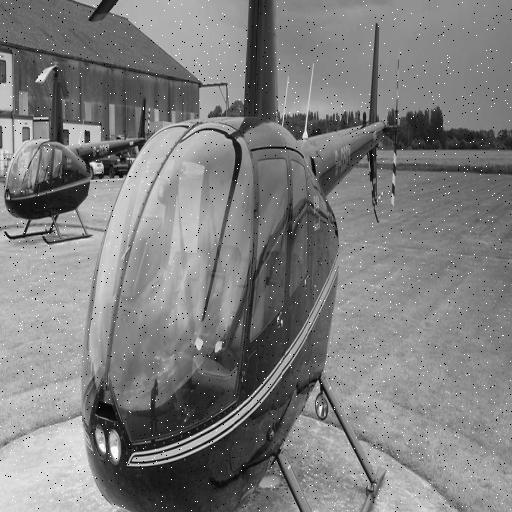helicopter: (85, 1, 403, 512), (5, 65, 154, 246)
